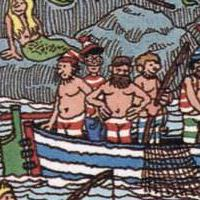waldo: (84, 36, 103, 76)
